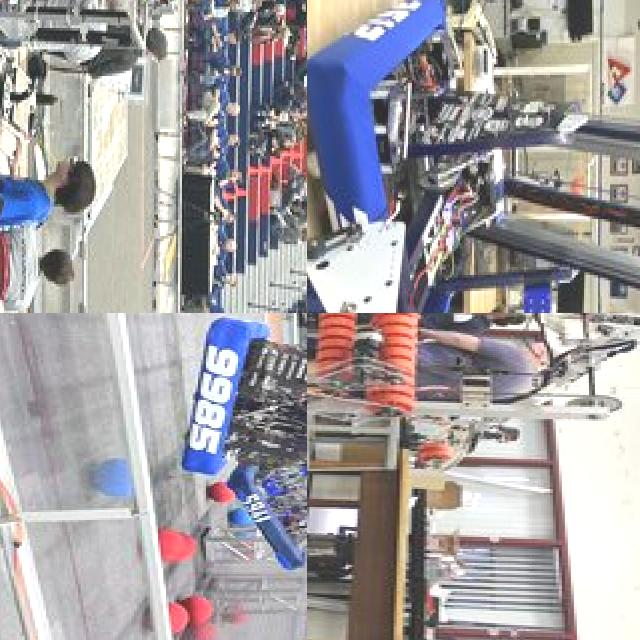FRC-Robots: (307, 0, 640, 313), (307, 313, 640, 518), (183, 313, 307, 483), (0, 0, 177, 96), (231, 447, 307, 577)
